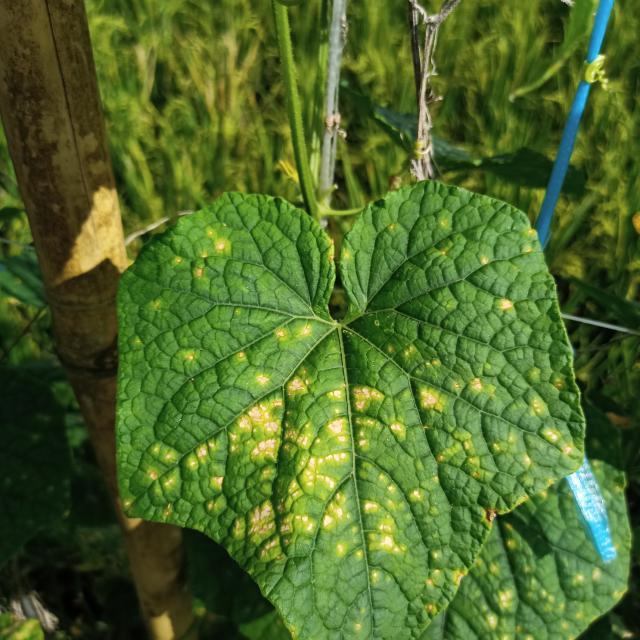disease_cucumber: (144, 216, 582, 604)
